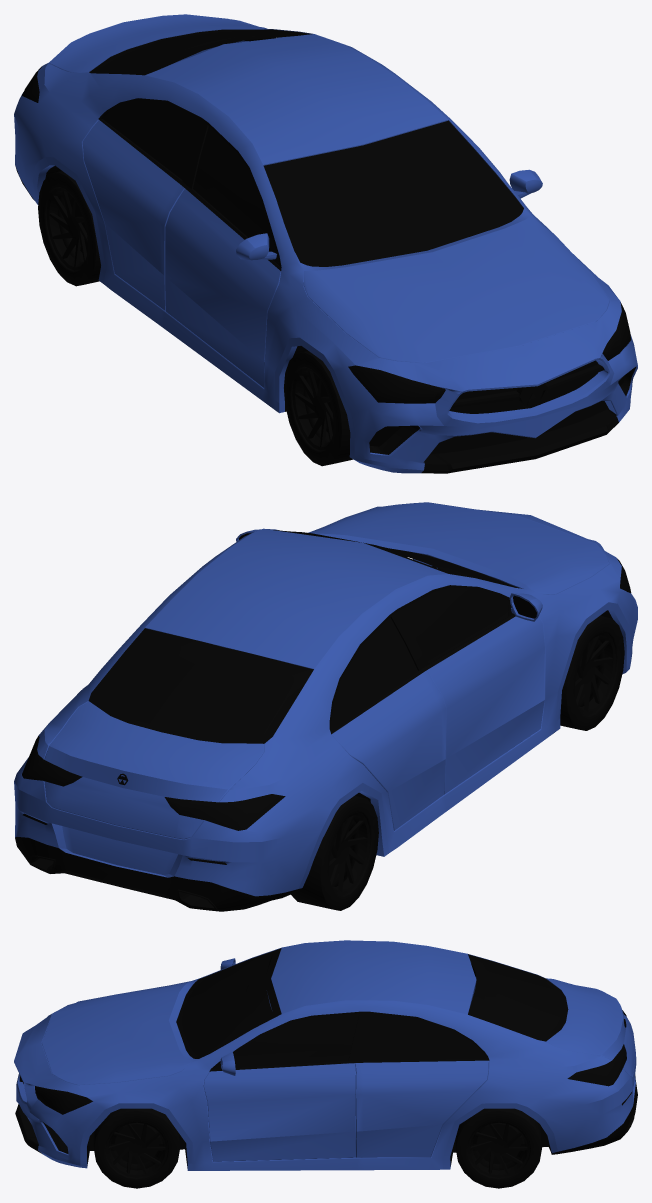
Rendered from ClaLodHukuk.fbx.
3 renders of one model, top to bottom at view 1: azimuth 30°, elevation 25°; view 2: azimuth 150°, elevation 25°; view 3: azimuth 270°, elevation 25°, orthographic. The views are drawn at different scales.
Visible parts, largest first — view 1: polySurface1, onteker2, arkateker2; view 2: polySurface1, arkateker2, onteker2; view 3: polySurface1, arkateker1, onteker3.
Part boxes in pixels (x1,y1,x2,y2): polySurface1: [14, 14, 637, 473]; onteker2: [284, 350, 353, 466]; arkateker2: [38, 171, 100, 286]; polySurface1: [14, 502, 637, 911]; arkateker2: [291, 795, 378, 910]; onteker2: [560, 615, 624, 730]; polySurface1: [14, 940, 637, 1170]; arkateker1: [455, 1108, 542, 1188]; onteker3: [93, 1108, 180, 1188].
Size of the model in its own units: 164 by 121 by 397.
